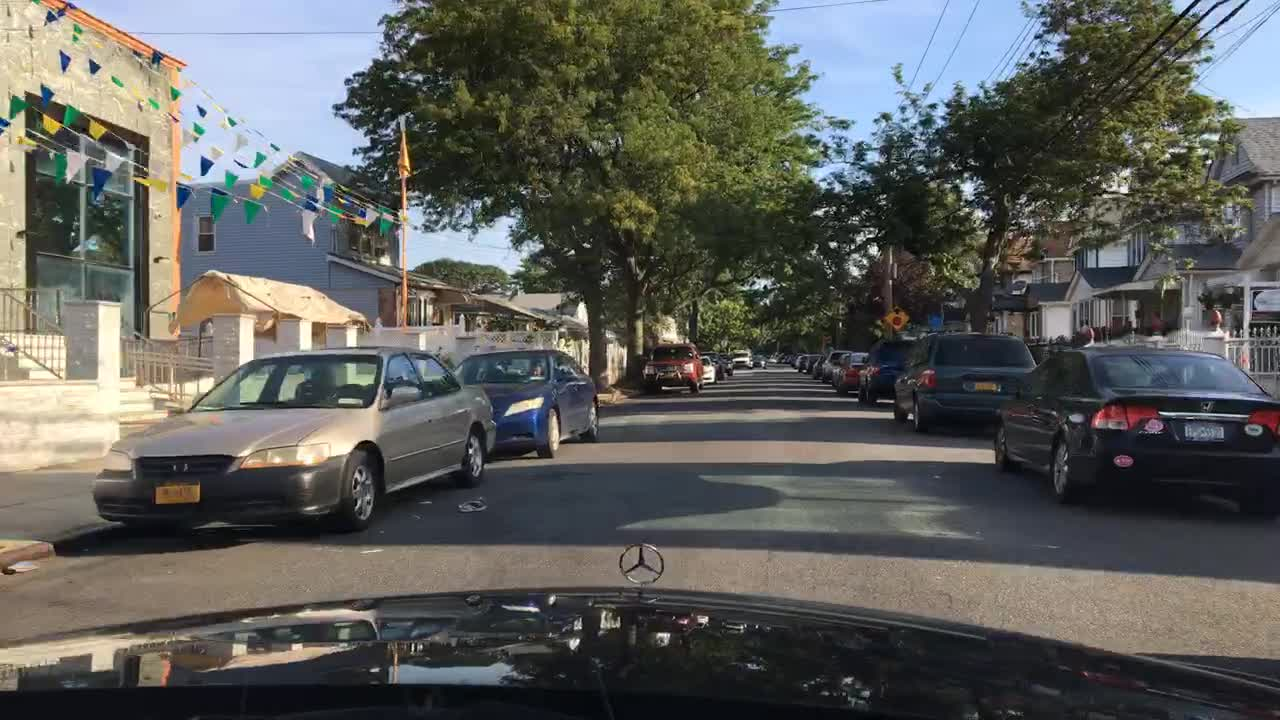car: (92, 346, 500, 534), (994, 353, 1279, 506), (452, 349, 598, 461), (893, 333, 1036, 432), (855, 340, 914, 405), (641, 344, 706, 395), (838, 351, 865, 394), (817, 351, 847, 376), (697, 356, 716, 383), (712, 351, 727, 379), (827, 359, 843, 384), (802, 354, 822, 373), (731, 351, 752, 368), (722, 351, 736, 373), (794, 356, 809, 368), (811, 363, 822, 378), (753, 356, 764, 369), (787, 354, 797, 365)
traffic sign: (883, 305, 910, 331)
